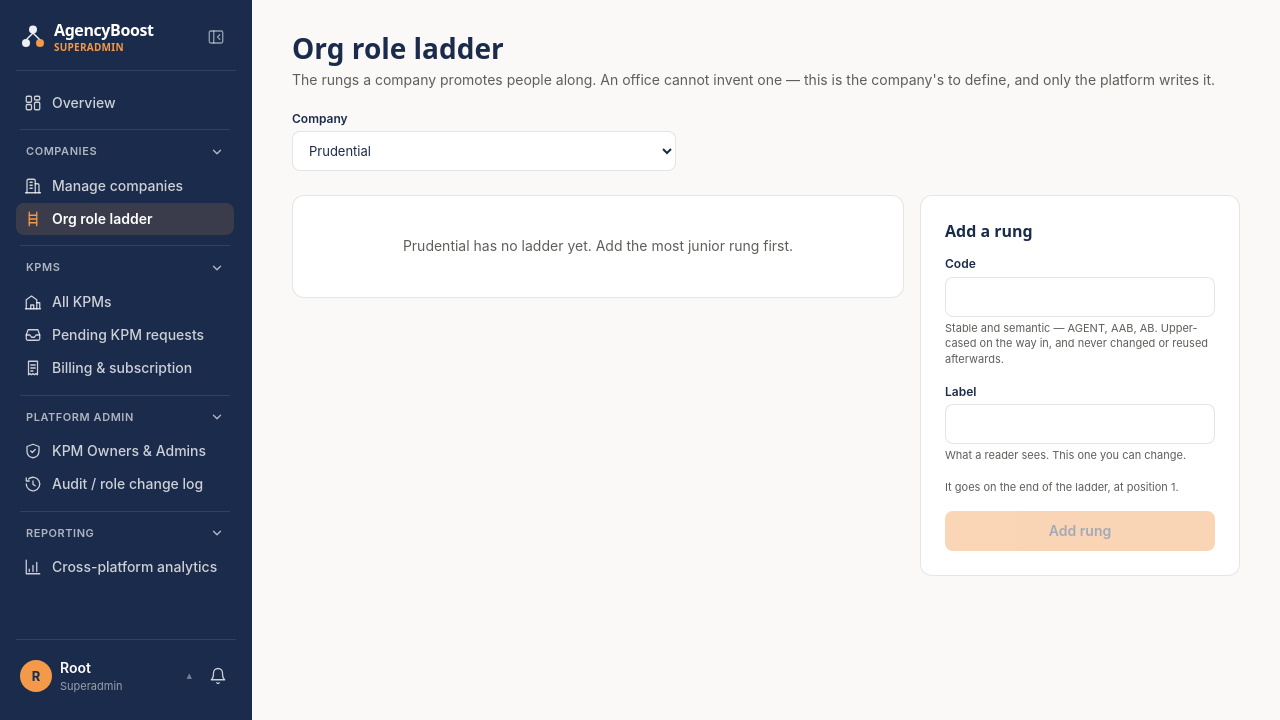
Test: org role ladder (P3.5-T7) › AC-1: refuses a code the API would refuse, before the round trip
Type "9LEVEL" into the field labelled "Code" at [1080, 297], box x1=945 y1=277 x2=1215 y2=317
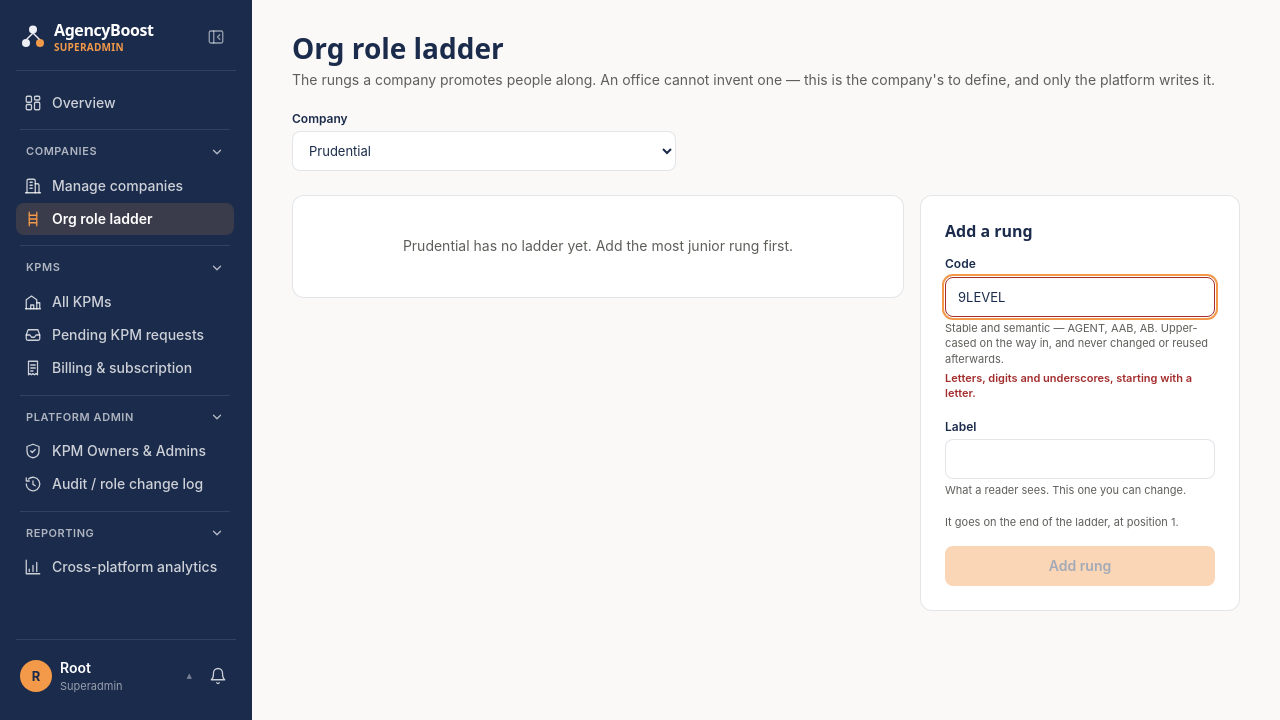
Expected: the button "Add rung" is disabled, x1=945 y1=546 x2=1215 y2=586
Expected: the text "Letters, digits and underscores, starting with a letter." is shown, x1=945 y1=371 x2=1215 y2=402
